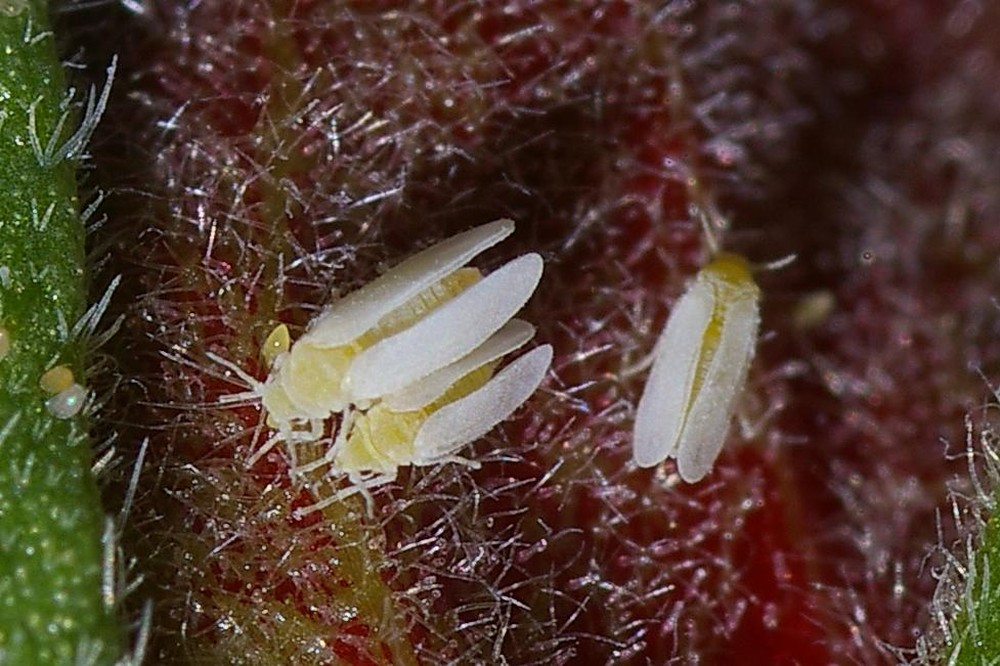Mosca Blanca: (202, 203, 571, 465), (613, 203, 801, 512), (330, 316, 554, 523)
